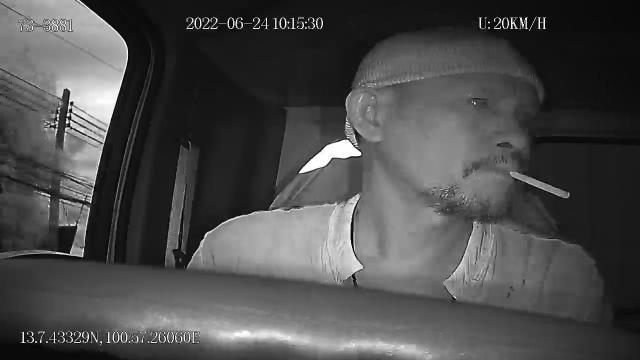SafeDriving: (452, 82, 499, 115)
Smoking: (509, 172, 571, 200)
